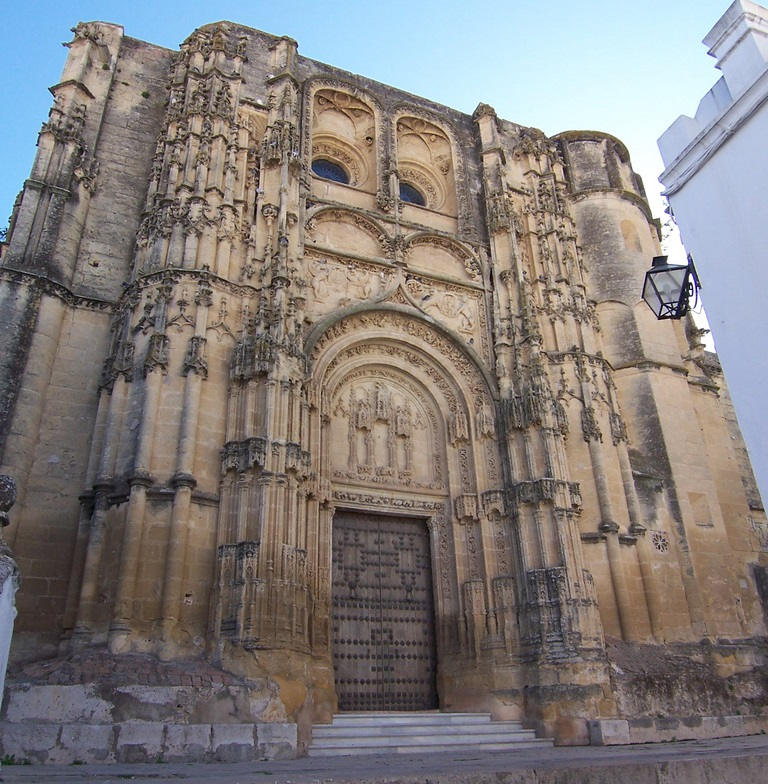arco-conopial: (312, 280, 472, 338)
